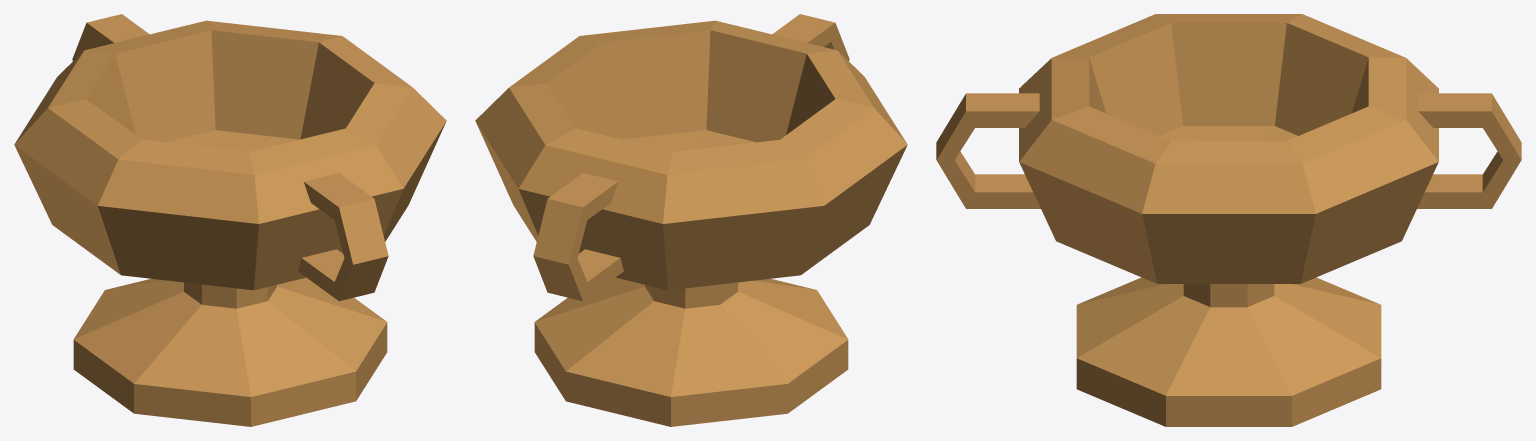
The model's file is SM_Prop_Gold_Bowl_03.fbx.
3 views of the same model, side by side, from view 1: azimuth 30°, elevation 25°; view 2: azimuth 150°, elevation 25°; view 3: azimuth 270°, elevation 25° (orthographic). The views are drawn at different scales.
Parts seen in each view (by area): view 1: SM_Prop_Gold_Bowl_03; view 2: SM_Prop_Gold_Bowl_03; view 3: SM_Prop_Gold_Bowl_03.
Part boxes in pixels (x1,y1,x2,y2): SM_Prop_Gold_Bowl_03: (14,14,446,426); SM_Prop_Gold_Bowl_03: (475,14,907,426); SM_Prop_Gold_Bowl_03: (936,14,1521,426).
Size of the model in its own units: 45.52 by 33.6 by 63.45.
